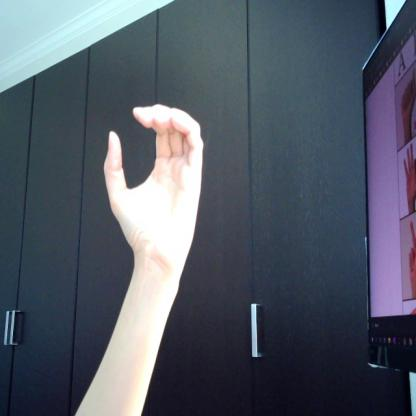C: (103, 103, 206, 270)
